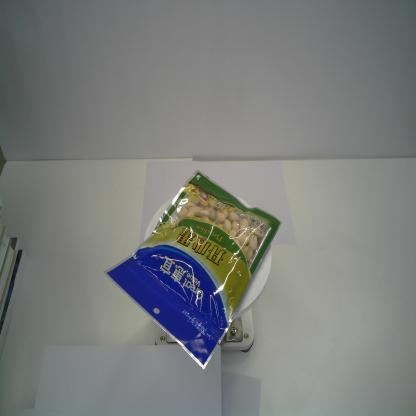Dried Fruit: (102, 169, 283, 371)
